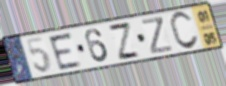5: (25, 36, 54, 75)
6: (84, 28, 110, 64)
C: (168, 10, 200, 52)
E: (46, 31, 84, 72)
Z: (106, 21, 143, 62), (140, 15, 175, 56)
